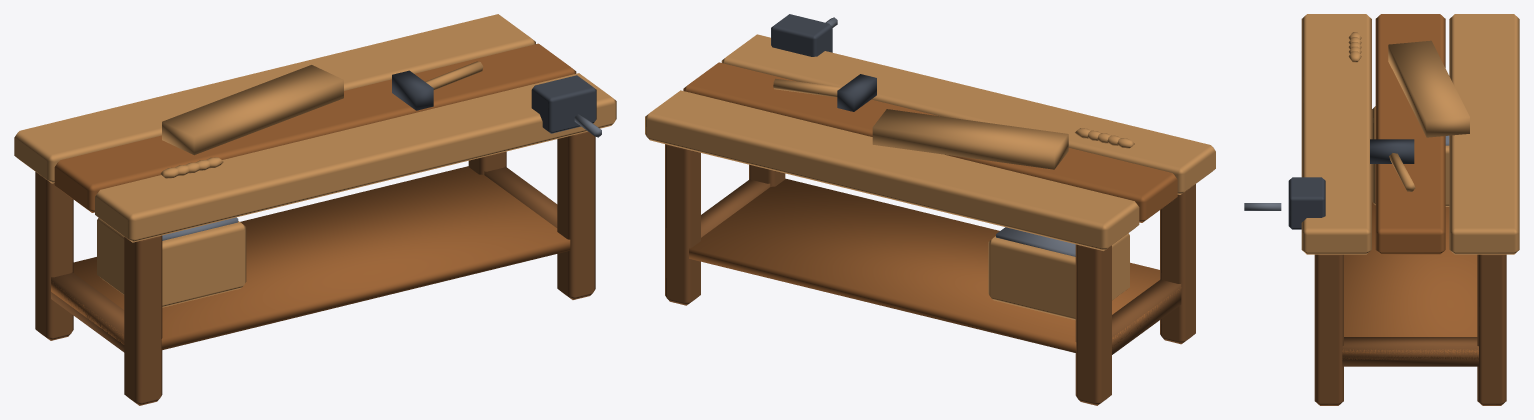
Rendered from workbench.glb.
3 views of the same model, side by side, from view 1: azimuth 30°, elevation 25°; view 2: azimuth 150°, elevation 25°; view 3: azimuth 270°, elevation 25° (orthographic). The views are drawn at different scales.
Visible parts, largest first — view 1: workbench; view 2: workbench; view 3: workbench.
Part boxes in pixels (x1=…): workbench: x1=14, y1=14, x2=616, y2=405; workbench: x1=645, y1=14, x2=1215, y2=405; workbench: x1=1244, y1=14, x2=1519, y2=405.
Size of the model in its own units: 1.4 by 0.61 by 0.745.
